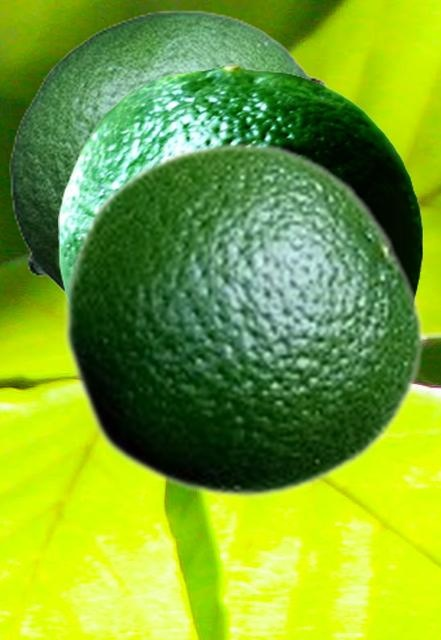calamansi: (61, 140, 425, 500), (9, 9, 331, 294), (58, 62, 422, 296)
